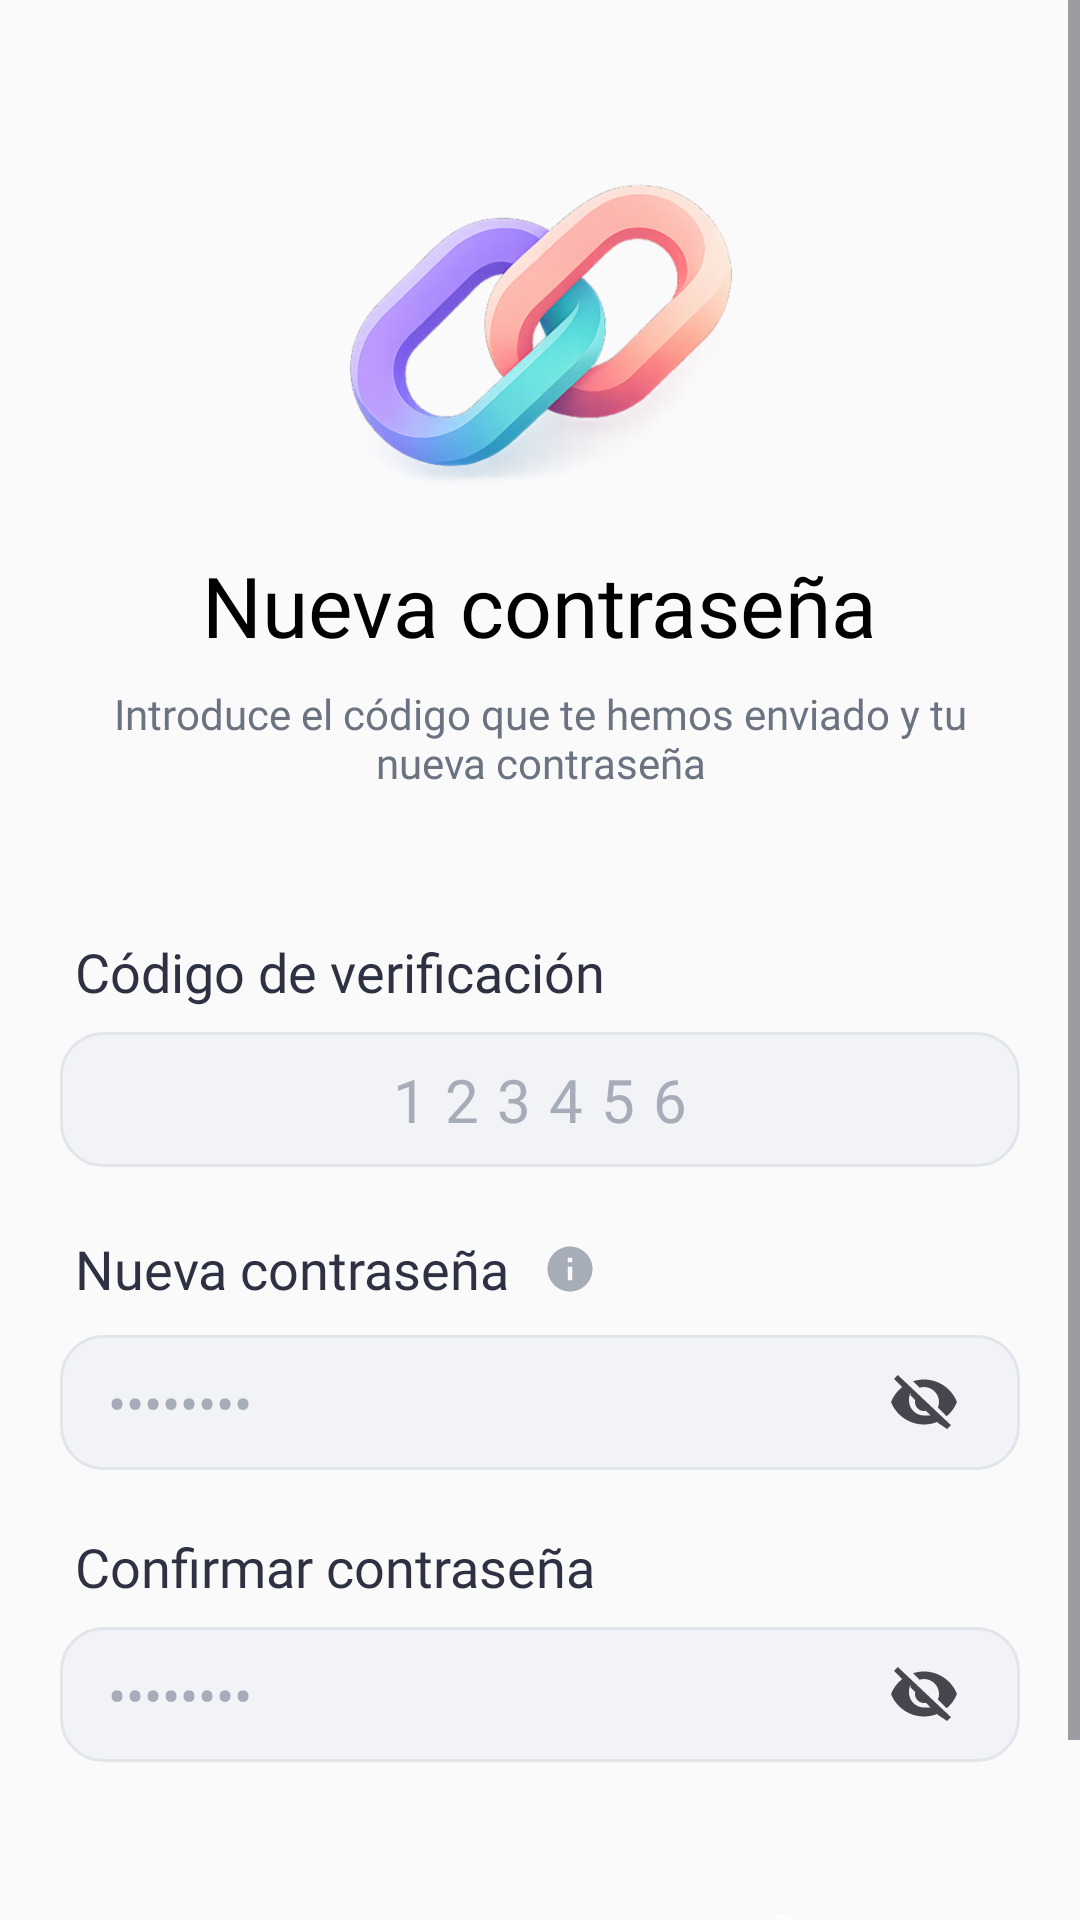

Screen size 1080 × 1920. Icon name, then its center in pixels as (x=x, y=y):
eye toggle: (x=924, y=1402), (x=924, y=1694)
Requisitos de contraseña: (x=570, y=1269)
